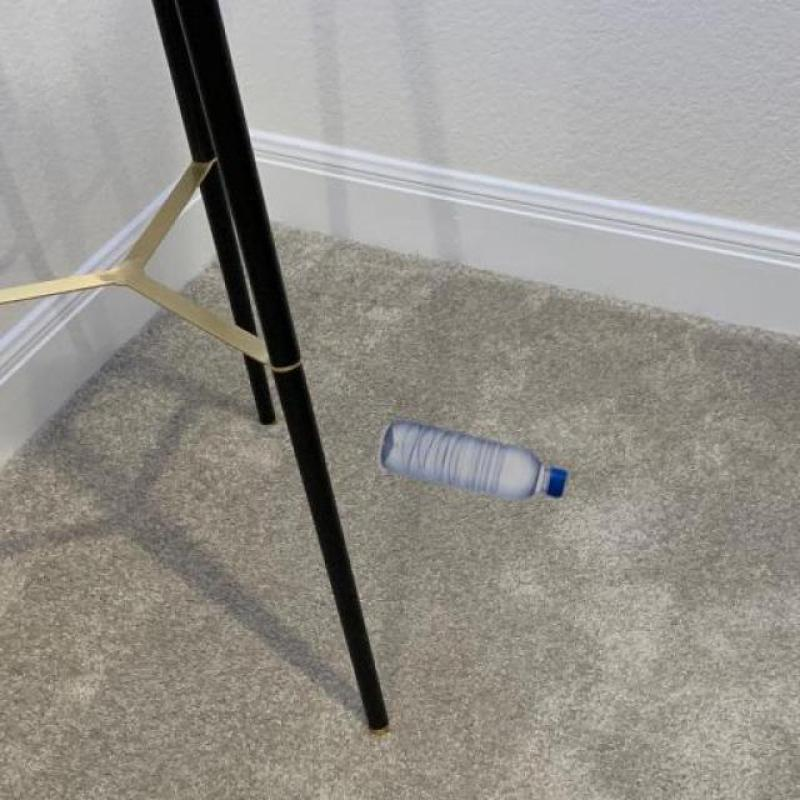botella: (378, 419, 567, 504)
